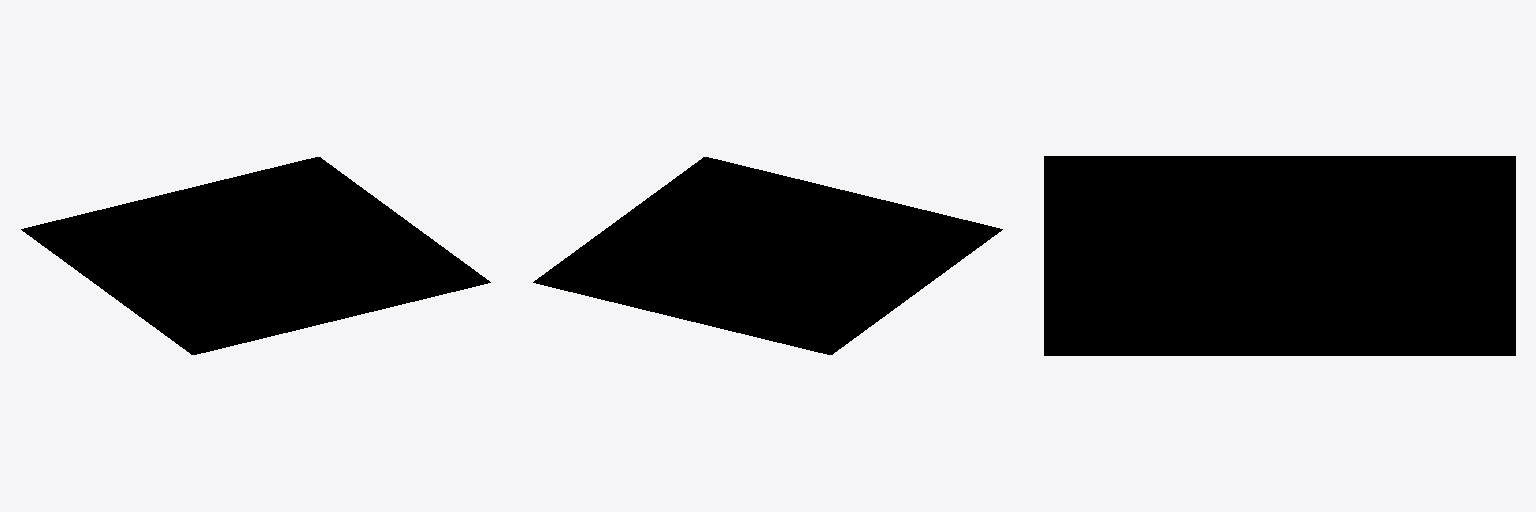
The robot description file, URDF, robot "plane":
<?xml version="0.0" ?>
<robot name="plane">
  <link name="planeLink">
    <contact>
      <lateral_friction value="1"/>
    </contact>
    <inertial>
      <origin rpy="0 0 0" xyz="0 0 0"/>
      <mass value=".0"/>
      <inertia ixx="0" ixy="0" ixz="0" iyy="0" iyz="0" izz="0"/>
    </inertial>
    <visual>
      <origin rpy="0 0 0" xyz="0 0 -0.005"/>
      <geometry>
        <box size="30 30 0.01"/>
      </geometry>
       <material name="black">
        <color rgba="0 0 0 1"/>
      </material>
    </visual>
    <collision>
      <origin rpy="0 0 0" xyz="0 0 -0.005"/>
      <geometry>
        <box size="30 30 0.01"/>
      </geometry>
    </collision>
  </link>
</robot>

--- What the picture shows (computed from the rendered views, not written in the file) ---
The picture shows the robot from 3 angles, left to right: view 1: azimuth 30°, elevation 25°; view 2: azimuth 150°, elevation 25°; view 3: azimuth 270°, elevation 25°; orthographic projection.
Robot: plane — 1 links, 0 joints (none); root link planeLink; default pose: every joint at zero.
Visible links, largest first — view 1: planeLink; view 2: planeLink; view 3: planeLink.
Boxes of the visible links, bbox=[...] form: planeLink: bbox=[21, 157, 490, 354]; planeLink: bbox=[533, 157, 1002, 354]; planeLink: bbox=[1044, 156, 1515, 355].
Bounding box of the posed robot: 30 × 30 × 0.01 m (x, y, z).
Geometry: primitives only (box / cylinder / sphere), no mesh files.
